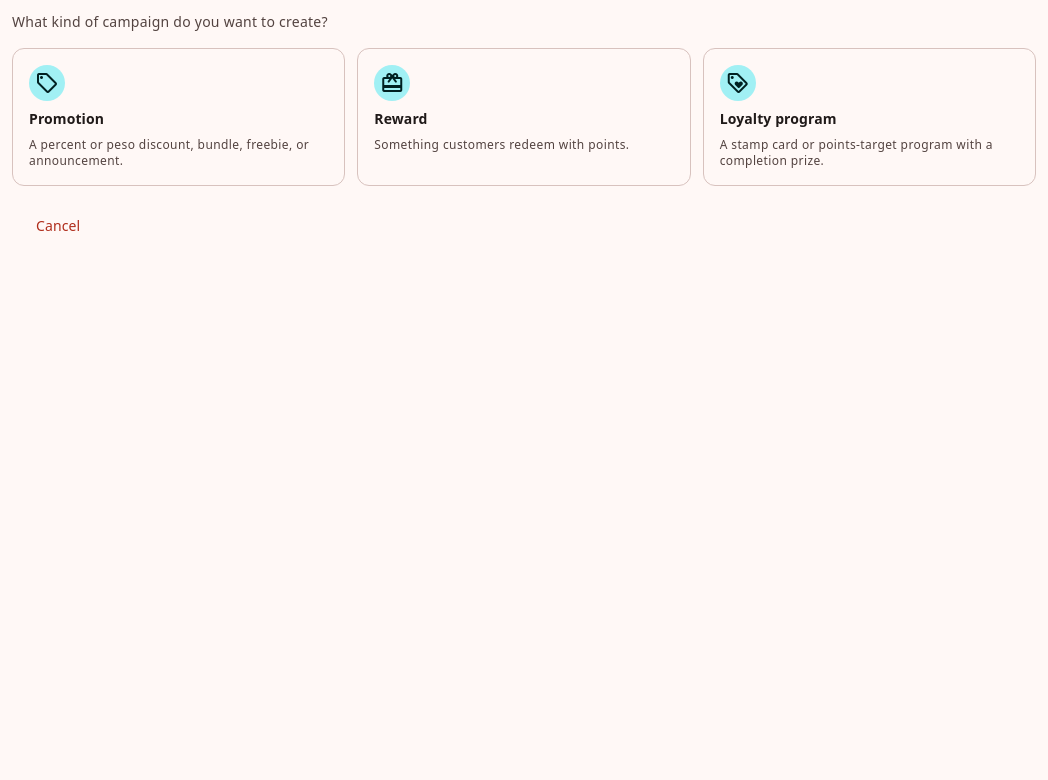
Test case: CampaignForm › goes back to the type picker from a type-specific step
Click the button "Reward Something customers redeem with points." at (524, 117), box [357,48,691,186]
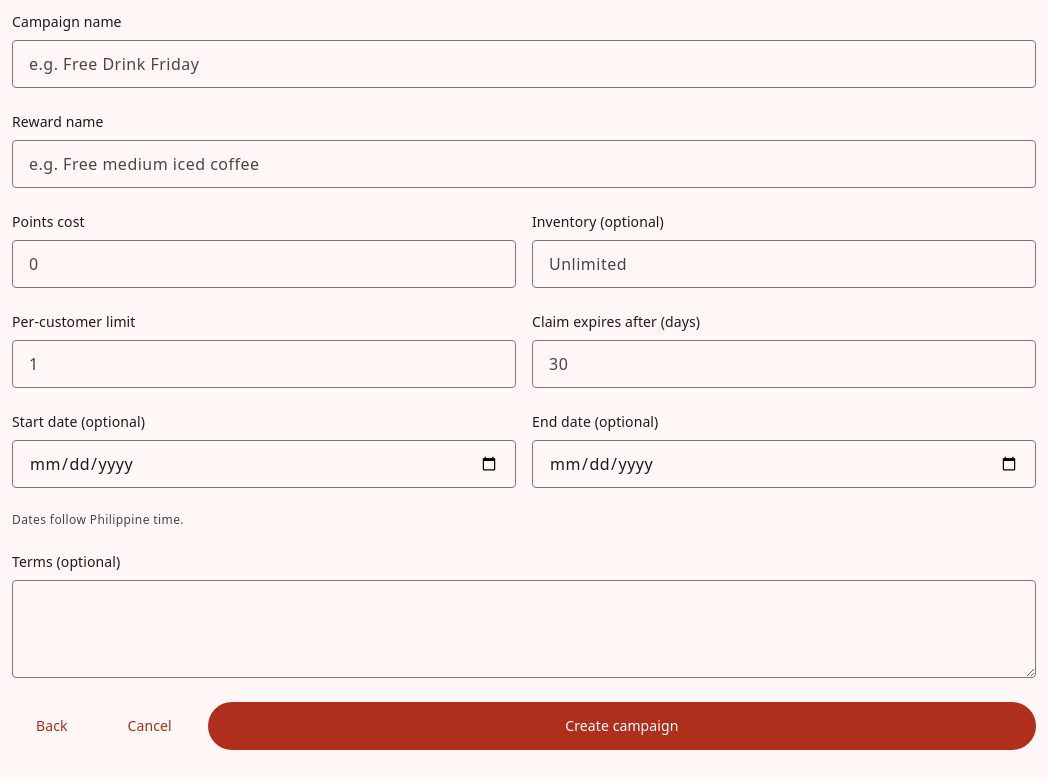
Expected: the field labelled "Reward name" is shown, [12,140,1036,188]
Click the button "Back" at (52, 726), box [12,702,92,750]
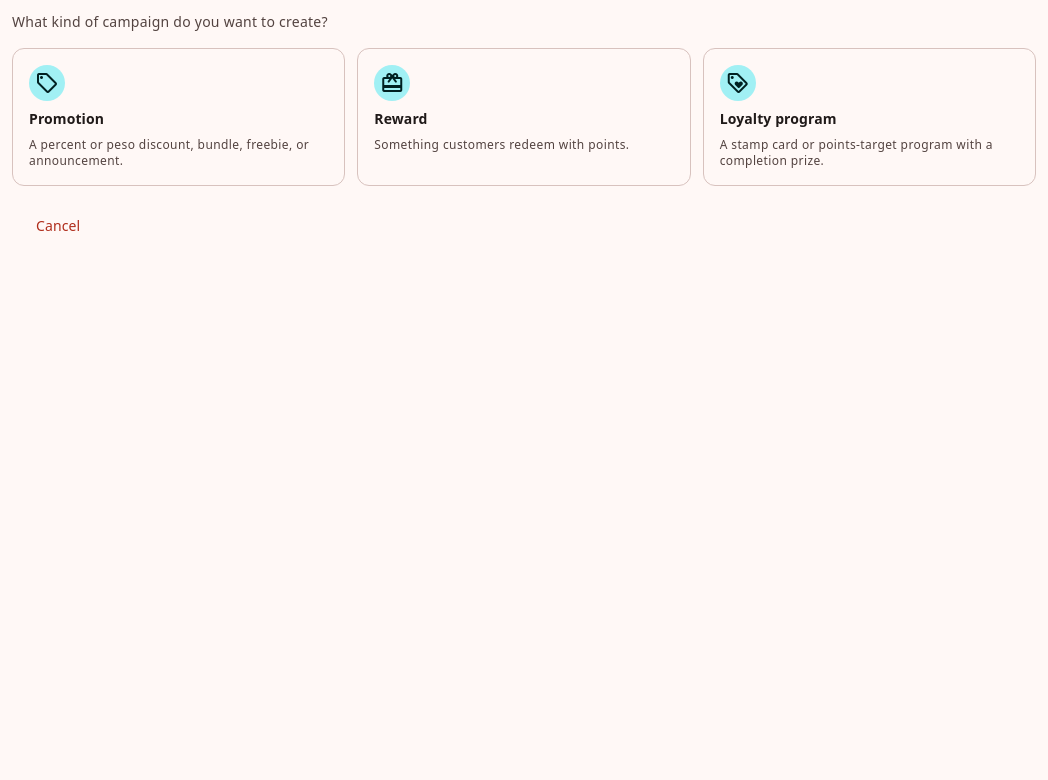
Expected: the button "Promotion" is shown, [12,48,345,186]
